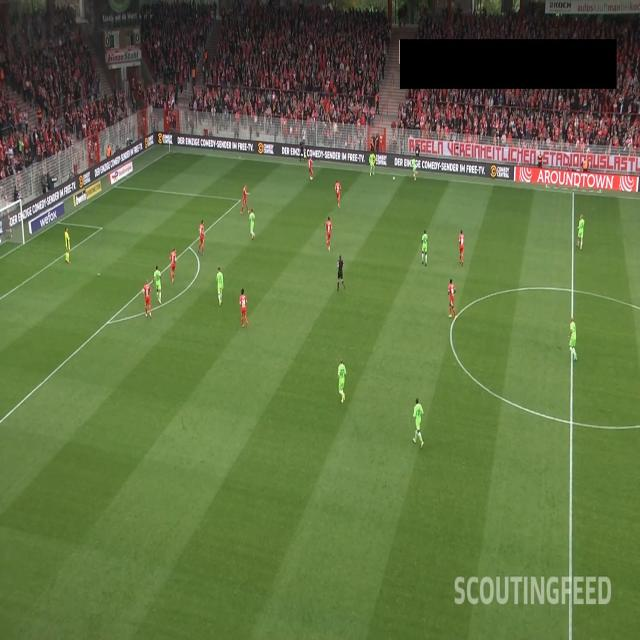ball: (392, 176, 396, 182)
